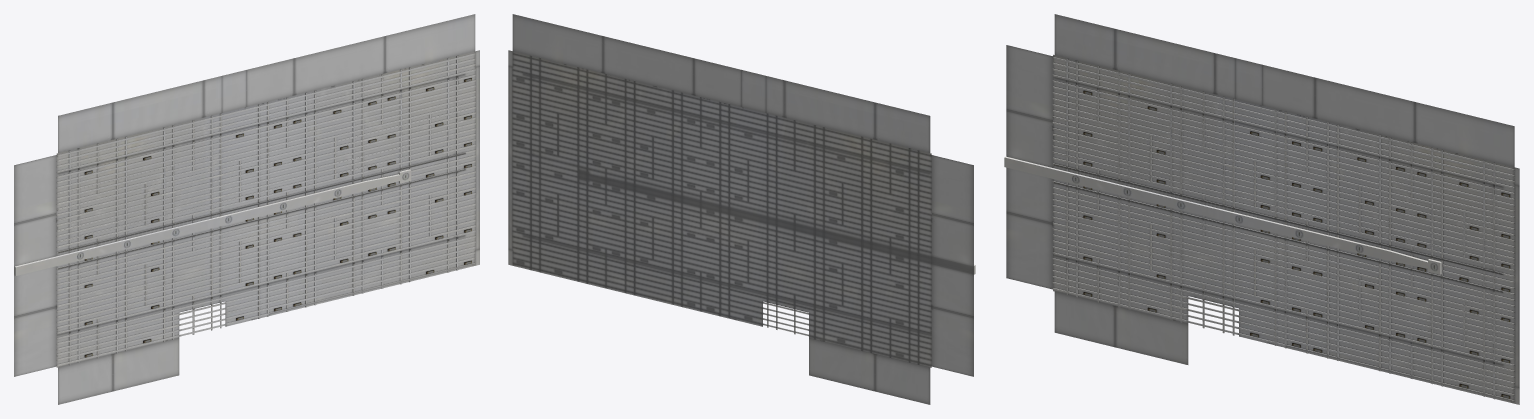
The model's file is PlafondAV.fbx.
3 views of the same model, side by side, from view 1: azimuth 30°, elevation 25°; view 2: azimuth 150°, elevation 25°; view 3: azimuth 330°, elevation 25° (orthographic). The views are drawn at different scales.
Visible parts, largest first — view 1: ShapeIndexedFaceSet_003, ShapeIndexedFaceSet_009, ShapeIndexedFaceSet_004, ShapeIndexedFaceSet_005; view 2: ShapeIndexedFaceSet_003, ShapeIndexedFaceSet_004, ShapeIndexedFaceSet_009; view 3: ShapeIndexedFaceSet_003, ShapeIndexedFaceSet_009, ShapeIndexedFaceSet_004, ShapeIndexedFaceSet_005.
Part boxes in pixels (x1,y1,x2,y2): ShapeIndexedFaceSet_003: (56,50,479,367); ShapeIndexedFaceSet_009: (14,53,475,366); ShapeIndexedFaceSet_004: (14,14,475,404); ShapeIndexedFaceSet_005: (84,78,471,357); ShapeIndexedFaceSet_003: (508,50,931,367); ShapeIndexedFaceSet_004: (512,14,973,404); ShapeIndexedFaceSet_009: (763,264,975,336); ShapeIndexedFaceSet_003: (1053,54,1519,404); ShapeIndexedFaceSet_009: (1004,57,1514,402); ShapeIndexedFaceSet_004: (1006,14,1514,364); ShapeIndexedFaceSet_005: (1083,90,1510,398).
Bounding box in the file's own units: 66.81 × 39.63 × 0.4058.
